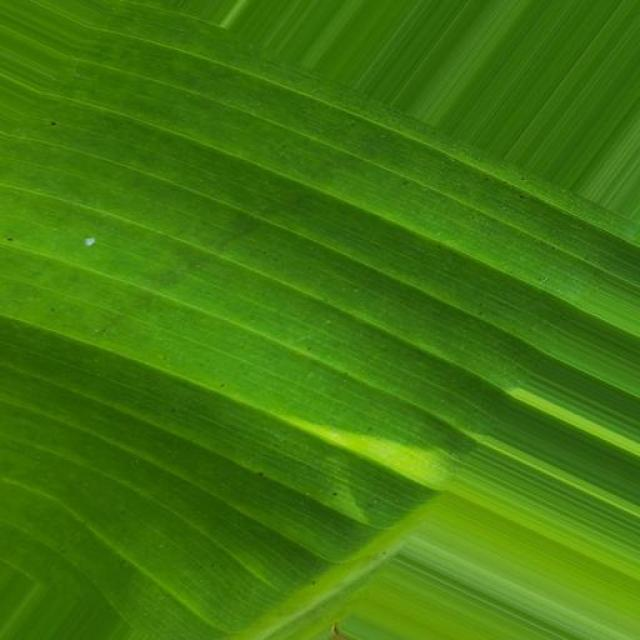Black_leaf_spot: (0, 0, 537, 495)
